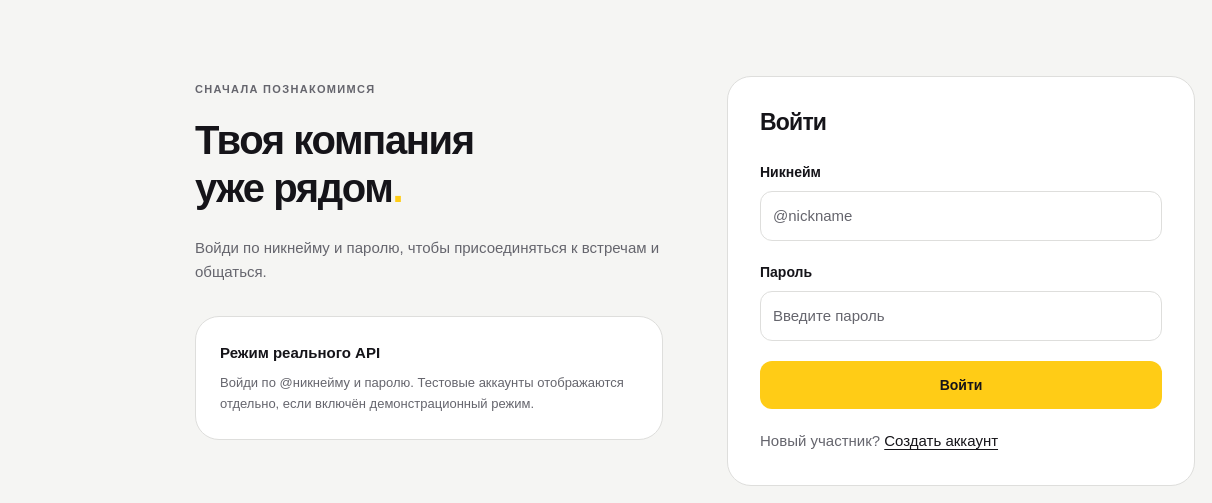
Test case: password login stays available when demo accounts are disabled
In the field labelled "Никнейм": point(961, 216) [760,191,1162,241], type "@no-demo-user"
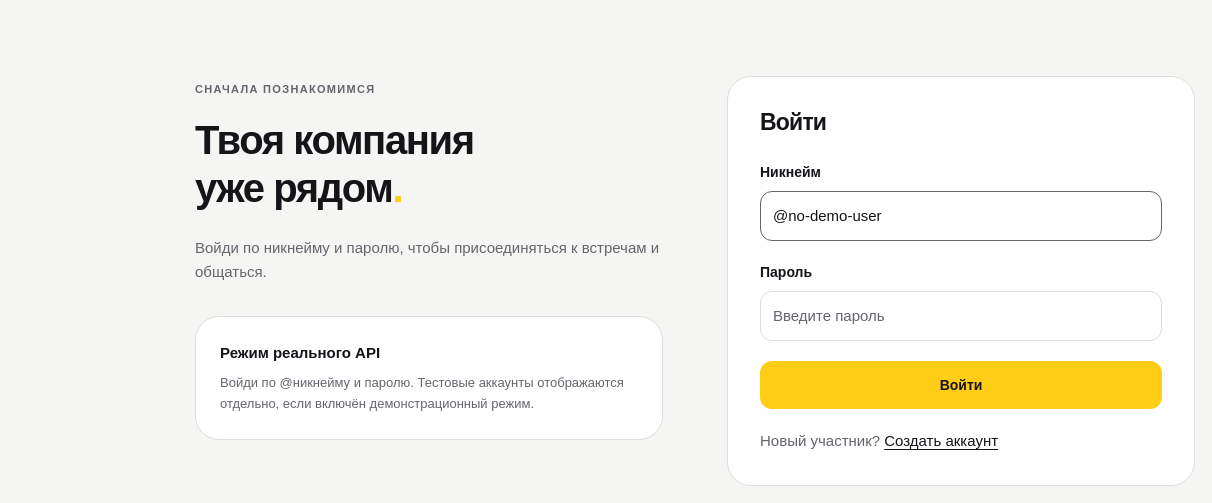
In the password field labelled "Пароль": point(961, 316) [760,291,1162,341], type "valid-password"
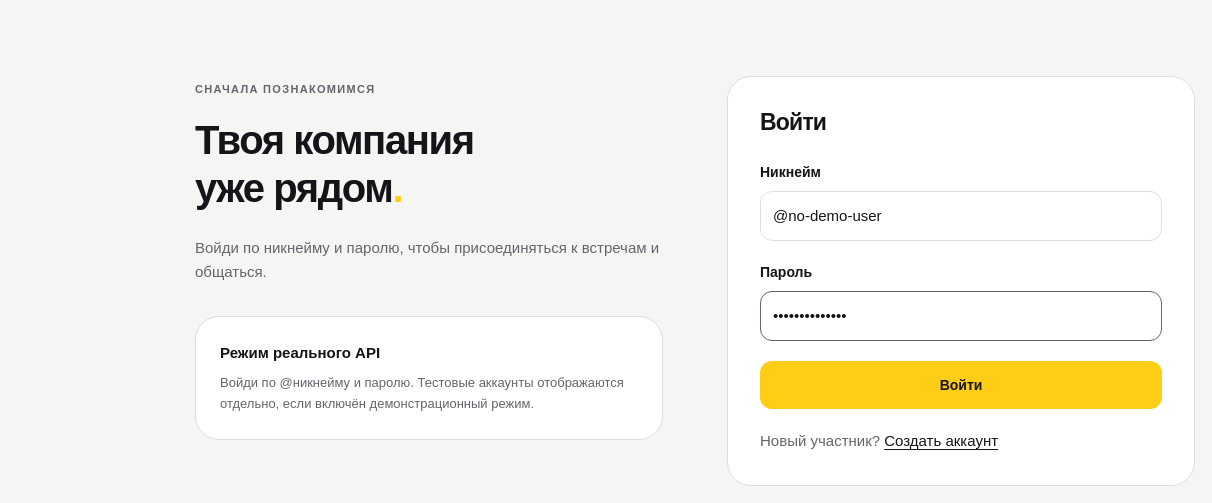
Click the button "Войти": point(961, 385) [760,361,1162,409]
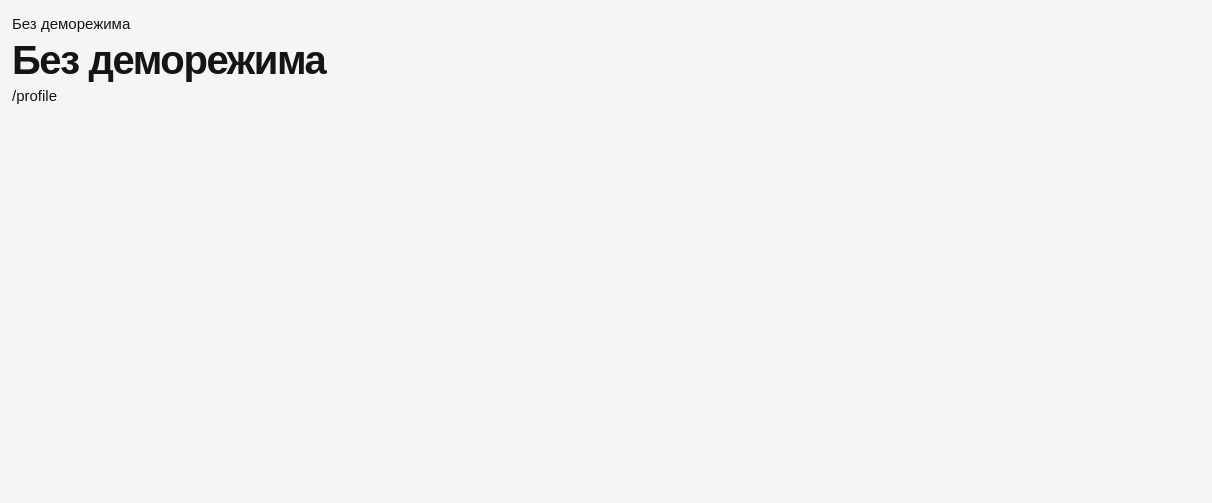
Result: the heading "Без деморежима" is shown at [12,38,325,82]
